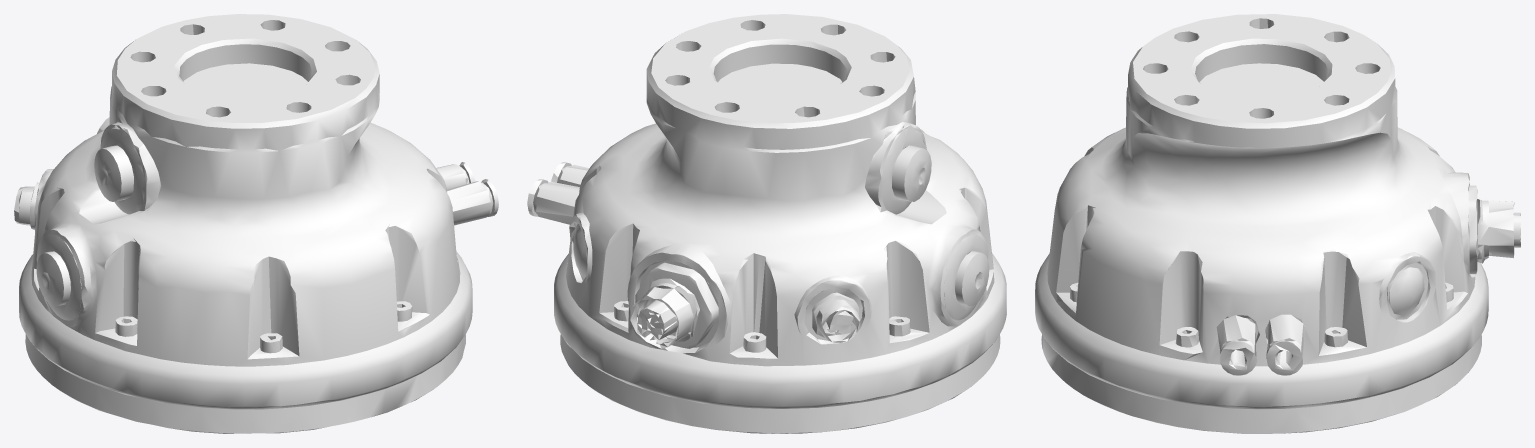
Rendered from v_kuka_link_7-MF-Touch-pneumatisch.dae.
3 views of the same model, side by side, from view 1: azimuth 30°, elevation 25°; view 2: azimuth 150°, elevation 25°; view 3: azimuth 270°, elevation 25° (orthographic).
Parts seen in each view (by area): view 1: v_link_7-MF-Touch-pneumatisch; view 2: v_link_7-MF-Touch-pneumatisch; view 3: v_link_7-MF-Touch-pneumatisch.
Boxes of the visible parts, box(x1,y1,x2,y2) form: v_link_7-MF-Touch-pneumatisch: box(14, 14, 498, 433); v_link_7-MF-Touch-pneumatisch: box(527, 14, 1006, 433); v_link_7-MF-Touch-pneumatisch: box(1035, 14, 1520, 433).
Size of the model in its own units: 0.1177 by 0.1145 by 0.0809.
Materials: 1 (1 with a texture image).
